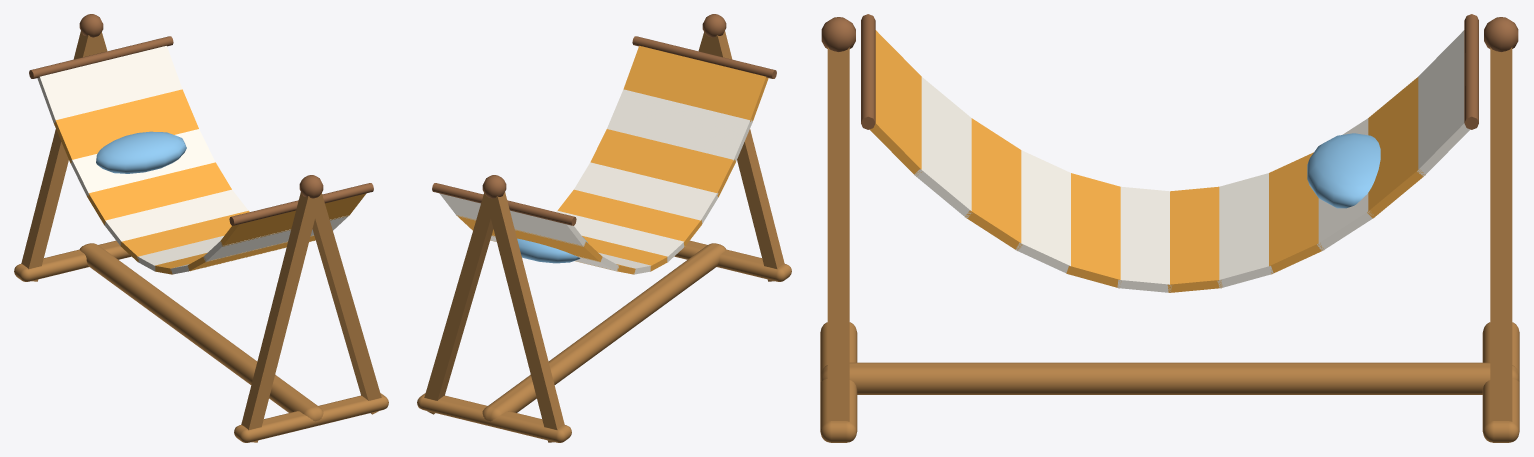
The model's file is lounger-hammock.glb.
3 renders of one model, left to right at view 1: azimuth 30°, elevation 25°; view 2: azimuth 150°, elevation 25°; view 3: azimuth 270°, elevation 25°, orthographic. The views are drawn at different scales.
Size of the model in its own units: 0.7 by 1.13 by 1.9.
